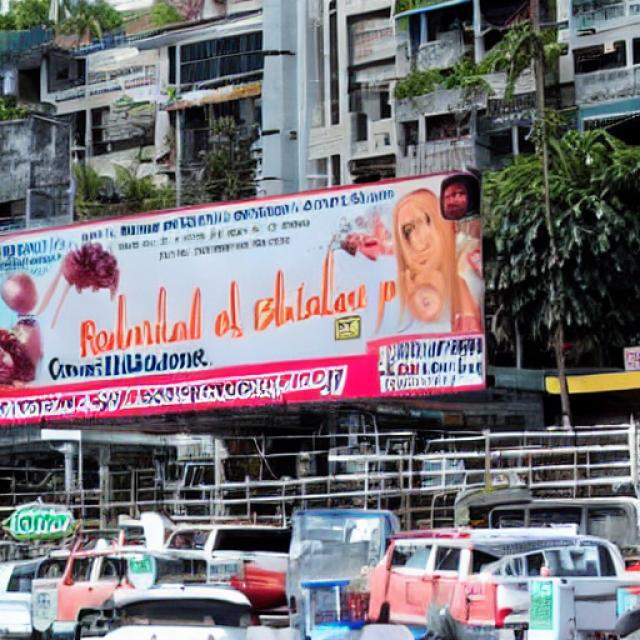Billboard: (0, 171, 486, 434)
